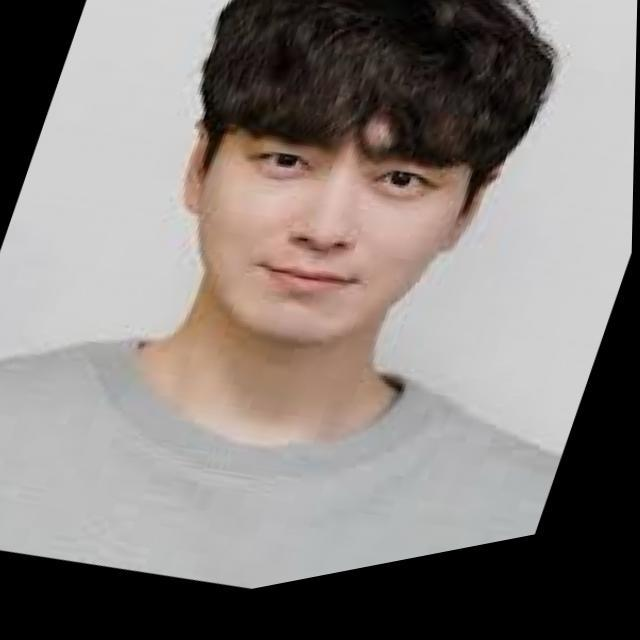Nonhelmet: (176, 1, 558, 347)
